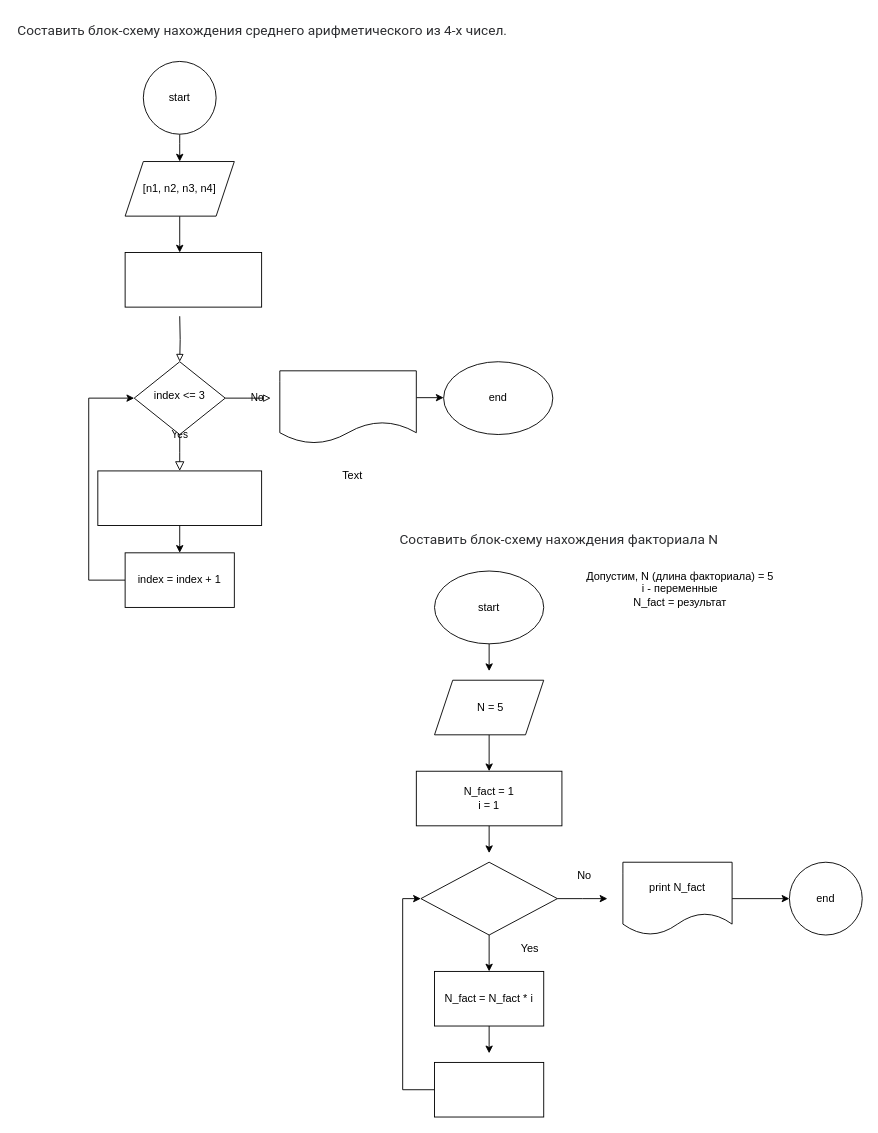
Image size: 878x1133. Some labels were removed from this diagram. The centre of each missing label's shape, as x and y in pixels:
"average = sum / (index+1)" belongs at pixel 347 407.
"i <= N" belongs at pixel 488 898.
"i = i + 1" belongs at pixel 489 1089.
"index = 0, 1, 2, 3 array = [n1, n2, n3, n4] sum = 0" belongs at pixel 193 279.
"sum = sum + array[index]" belongs at pixel 179 498.
